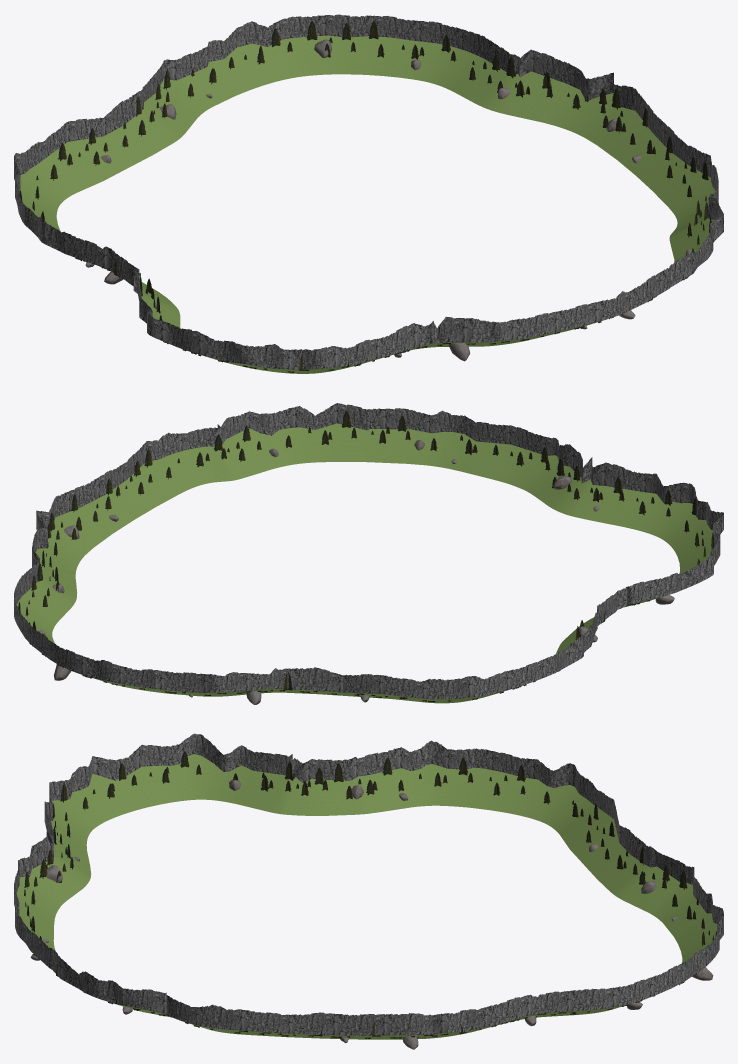
3 renders of one model, top to bottom at view 1: azimuth 30°, elevation 25°; view 2: azimuth 150°, elevation 25°; view 3: azimuth 270°, elevation 25°, orthographic. The views are drawn at different scales.
Parts seen in each view (by area): view 1: Wall_08, Wall_09, Wall_07, Wall_00, Wall_06, Wall_03, Wall_02, Wall_04, Wall_01, Wall_05, Trees_08, Trees_09 (+3 smaller); view 2: Wall_01, Wall_02, Wall_03, Wall_00, Wall_06, Wall_09, Wall_07, Wall_04, Wall_08, Wall_05, Trees_03, Trees_00 (+3 smaller); view 3: Wall_04, Wall_05, Wall_06, Wall_07, Wall_00, Wall_03, Wall_09, Wall_01, Wall_08, Wall_02, Trees_05, Trees_04 (+3 smaller).
Boxes of the visible parts, left/top/right/bottom form: Wall_08: left=209, top=14, right=456, bottom=94; Wall_09: left=433, top=27, right=617, bottom=137; Wall_07: left=103, top=42, right=237, bottom=165; Wall_00: left=585, top=85, right=713, bottom=214; Wall_06: left=14, top=117, right=132, bottom=230; Wall_03: left=283, top=316, right=473, bottom=373; Wall_02: left=473, top=266, right=669, bottom=346; Wall_04: left=133, top=271, right=288, bottom=373; Wall_01: left=669, top=165, right=723, bottom=287; Wall_05: left=25, top=205, right=178, bottom=309; Trees_08: left=228, top=21, right=450, bottom=69; Trees_09: left=450, top=51, right=606, bottom=114; Wall_01: left=162, top=403, right=367, bottom=488; Wall_02: left=365, top=408, right=569, bottom=496; Wall_03: left=535, top=444, right=706, bottom=545; Wall_00: left=50, top=436, right=189, bottom=554; Wall_06: left=343, top=654, right=555, bottom=703; Wall_09: left=14, top=510, right=84, bottom=631; Wall_07: left=155, top=667, right=347, bottom=696; Wall_04: left=624, top=502, right=723, bottom=607; Wall_08: left=14, top=593, right=164, bottom=693; Wall_05: left=555, top=587, right=627, bottom=672; Trees_03: left=552, top=458, right=696, bottom=533; Trees_00: left=49, top=449, right=171, bottom=539; Wall_04: left=72, top=733, right=292, bottom=822; Wall_05: left=281, top=740, right=475, bottom=815; Wall_06: left=466, top=748, right=619, bottom=866; Wall_07: left=586, top=825, right=711, bottom=937; Wall_00: left=221, top=1006, right=428, bottom=1039; Wall_03: left=31, top=773, right=102, bottom=899; Wall_09: left=424, top=986, right=620, bottom=1038; Wall_01: left=52, top=949, right=230, bottom=1033; Wall_08: left=605, top=895, right=723, bottom=1011; Wall_02: left=14, top=848, right=67, bottom=969; Trees_05: left=296, top=757, right=473, bottom=799; Trees_04: left=92, top=751, right=294, bottom=798.
Size of what is drawn, in the model's own units: 425 by 34.36 by 457.
